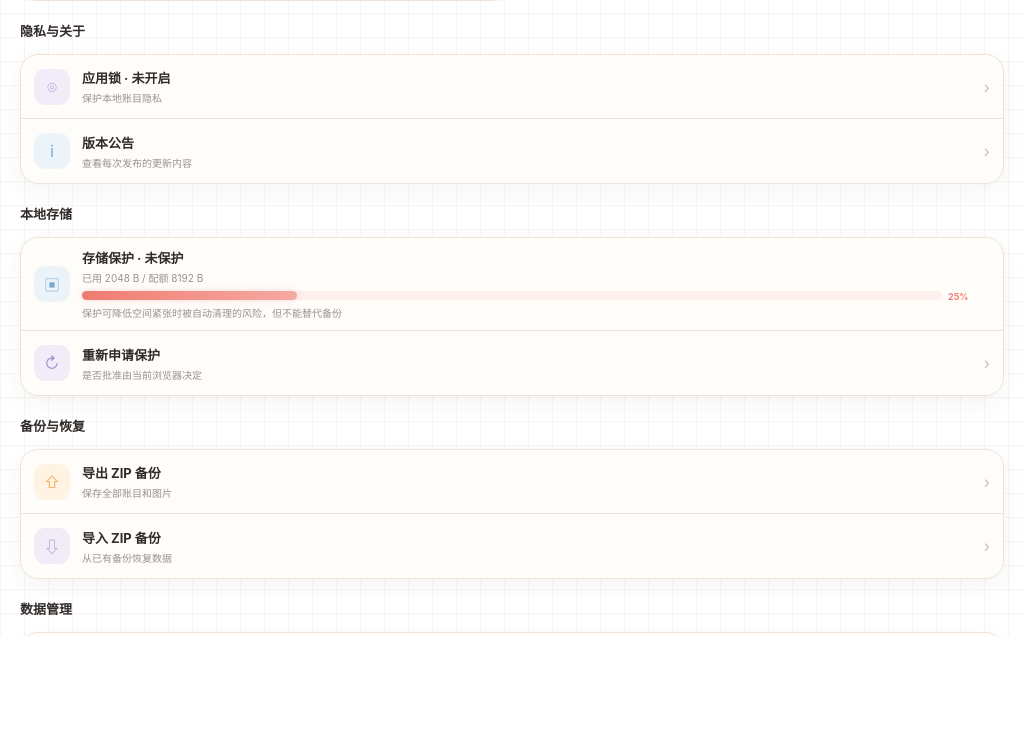
Scenario: SettingsPage storage protection › automatically requests protection and shows quota with a retry action
(page scrolled)
Click the button with aria-label "重新申请存储保护" at (52, 363), box [21,331,1003,395]
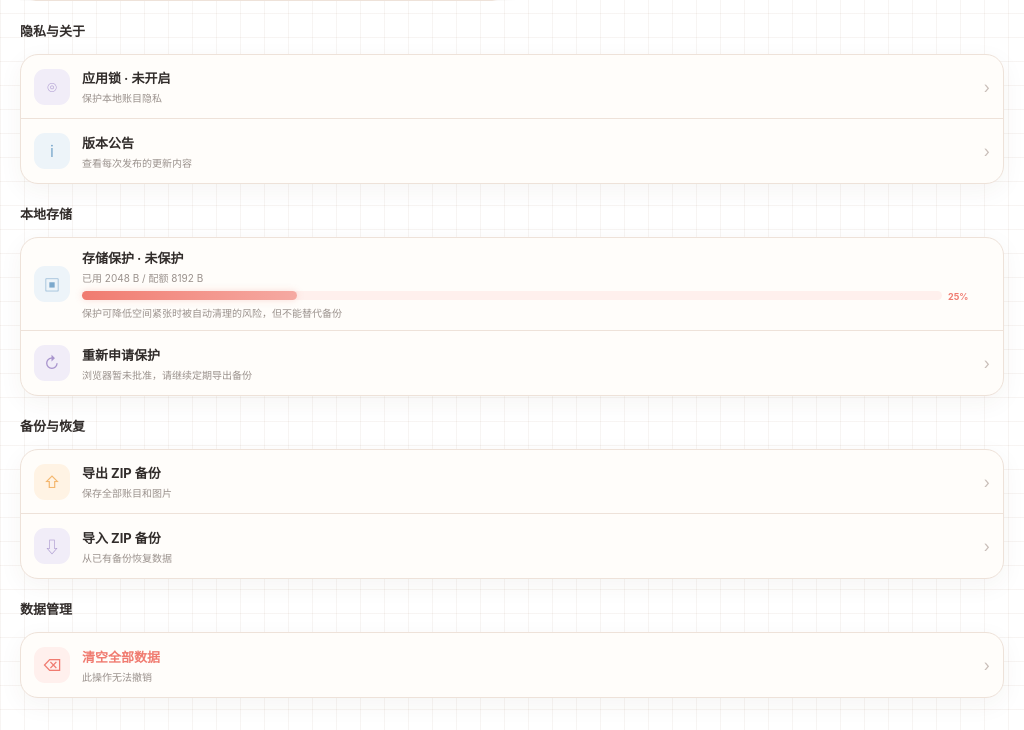
Expected: the text "浏览器暂未批准" is shown, [82,368,252,380]
